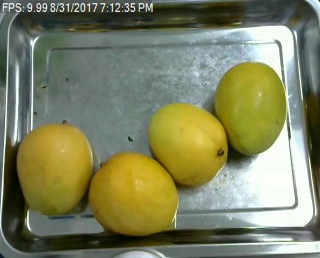Mango: (12, 114, 98, 222), (81, 150, 181, 236), (138, 99, 232, 188), (216, 61, 291, 159)
